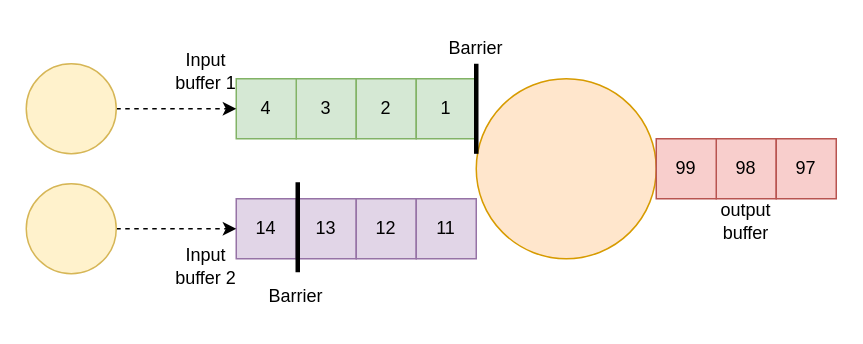
Image size: 863x344. Some labels were removed from this diagram. The box of each missing label's shape, as (x1, y1, x2, y2) in pixels:
Operator 1: (475, 77, 656, 259)
Source 1: (25, 62, 116, 154)
Source 2: (25, 182, 116, 274)
